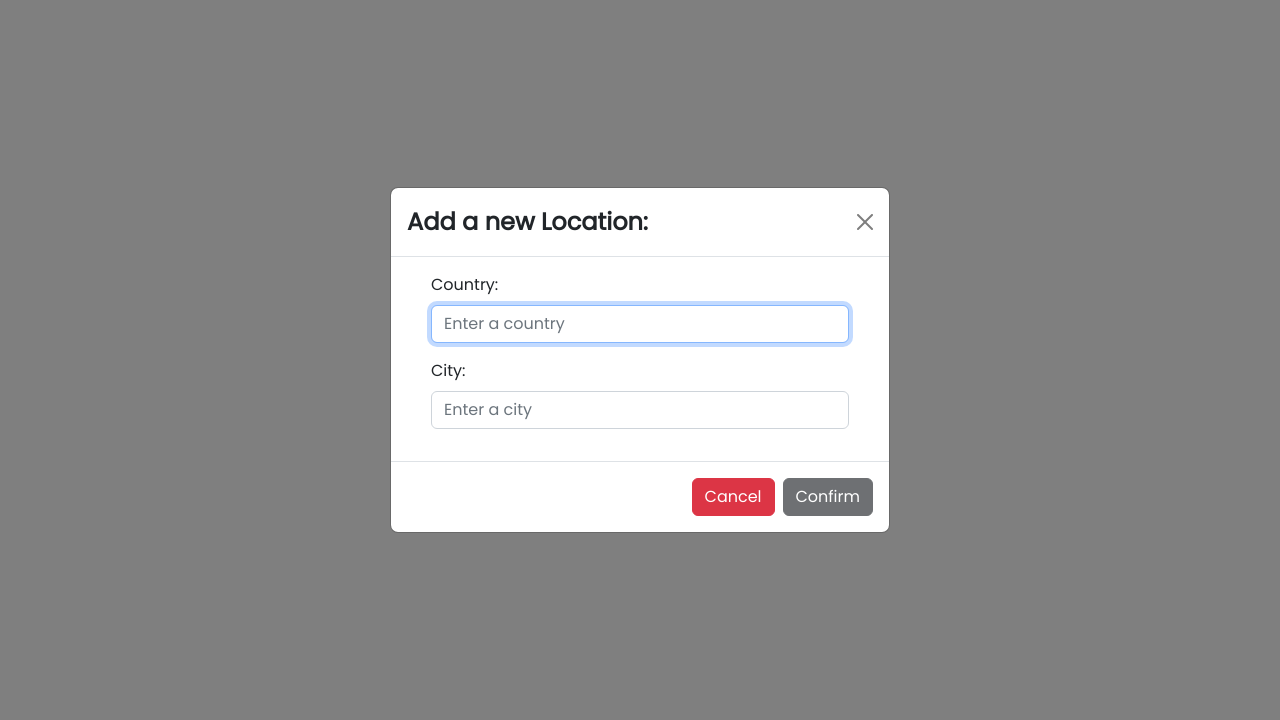
Scenario: AddLocationModal confirm button is enabled when inputs are filled
The width and height of the screenshot is (1280, 720).
Step 1. Type "Spain" into the field with placeholder "Enter a country" → (640, 324), box [431,305,849,343]
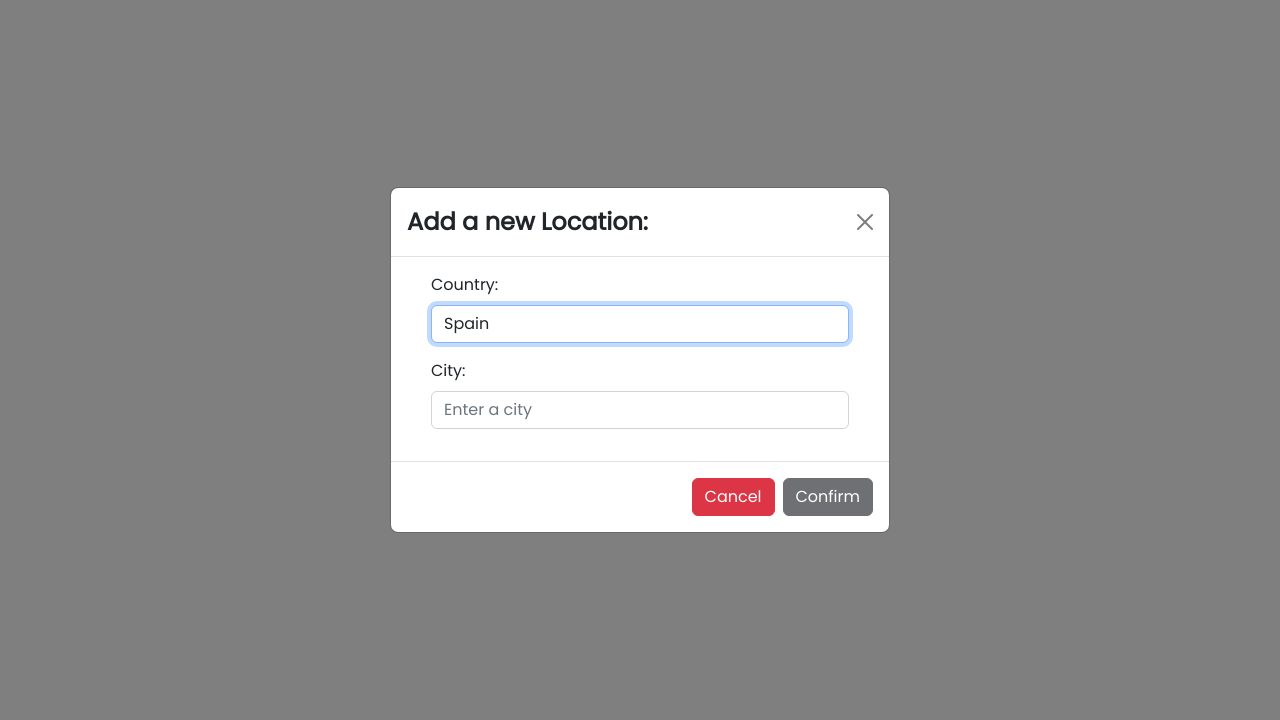
Step 2. Type "Madrid" into the field with placeholder "Enter a city" → (640, 410), box [431,391,849,429]
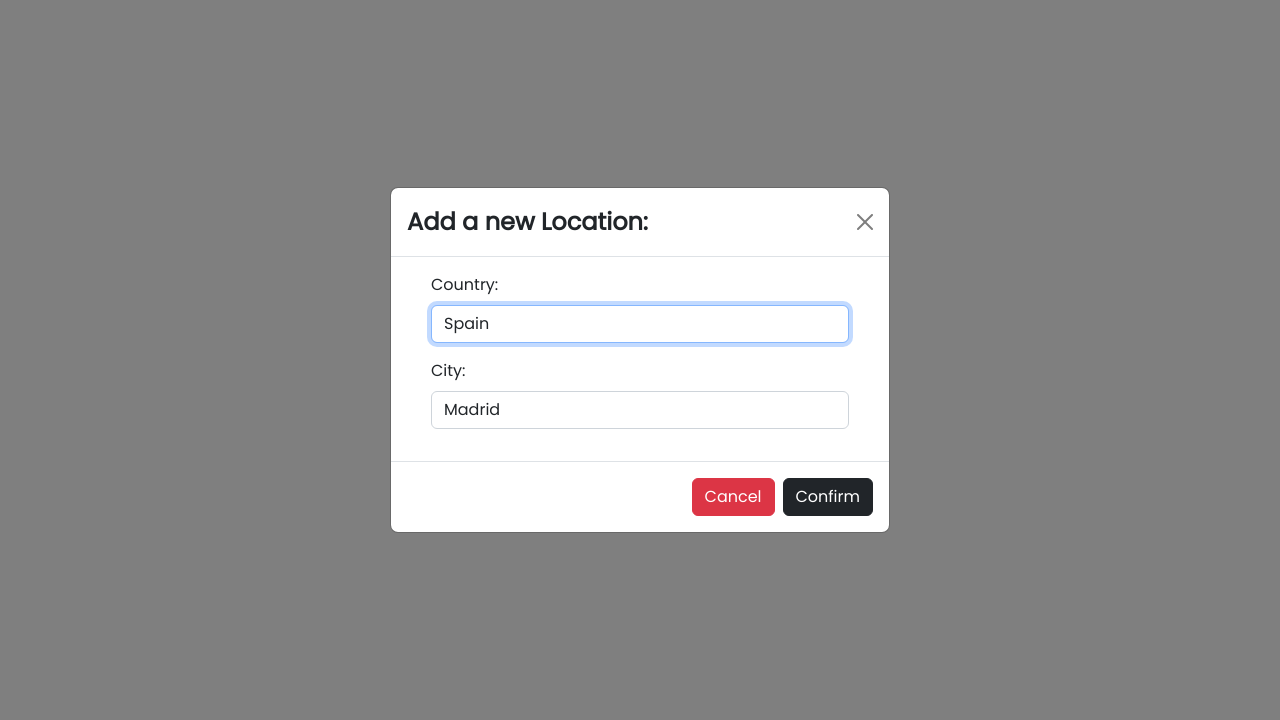
Now the button with test id "confirmBtn" is enabled, box [782,478,873,516]
